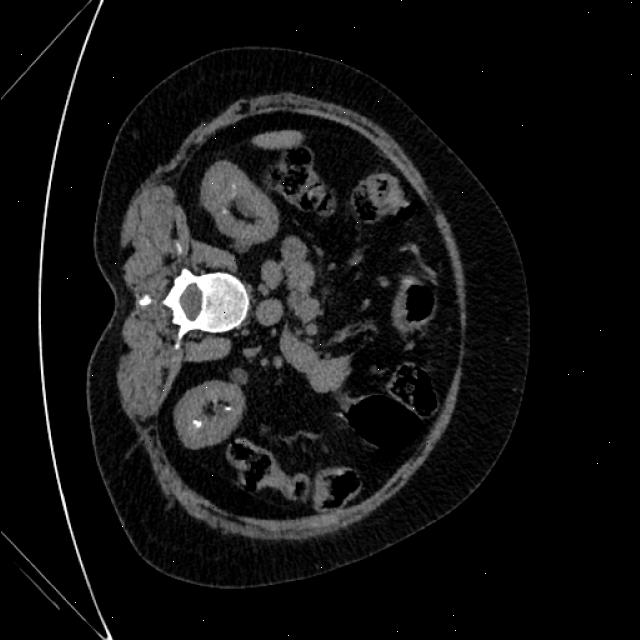kidneystone: (192, 419, 201, 429)
